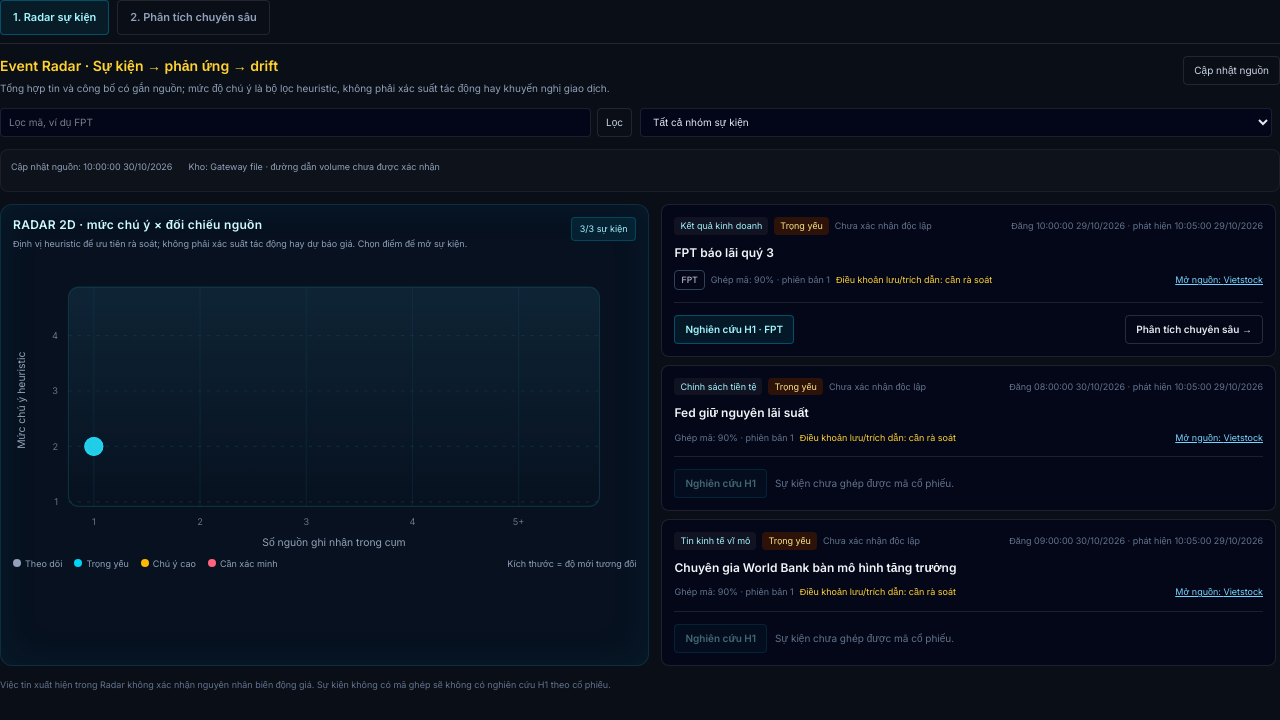
Test case: Event Radar 2 phần (30/10/2026 — chuyển Quant Edge / ESA / vĩ mô từ Siêu quét AI) › nút Phân tích chuyên sâu trên thẻ sự kiện có mã -> mở phần 2, điền sẵn mã + ngày VN + thời điểm công bố; nhớ phần đang mở
The image size is (1280, 720).
Click the button "Phân tích chuyên sâu →" at (1194, 329), box [1125,315,1263,344]
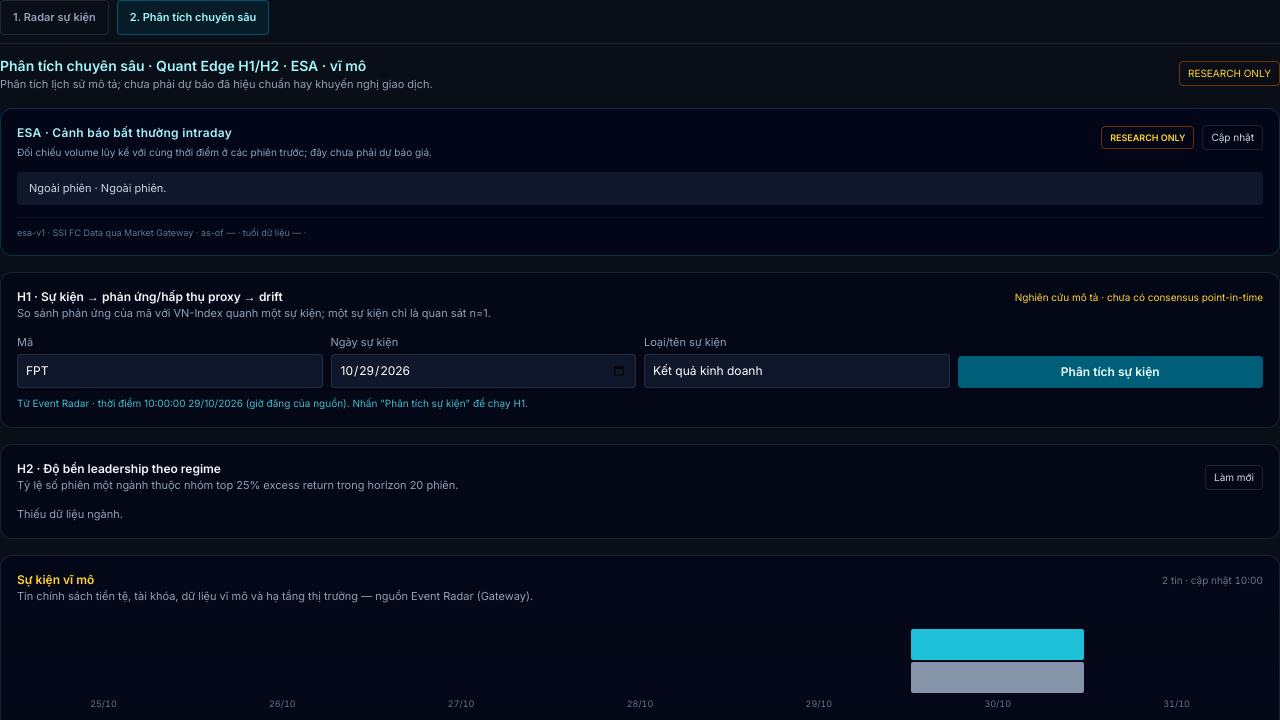
Now the field named "Mã chứng khoán" holds "FPT", box [17,354,322,388]
Now the date field named "Ngày sự kiện" holds "2026-10-29", box [330,354,636,388]
